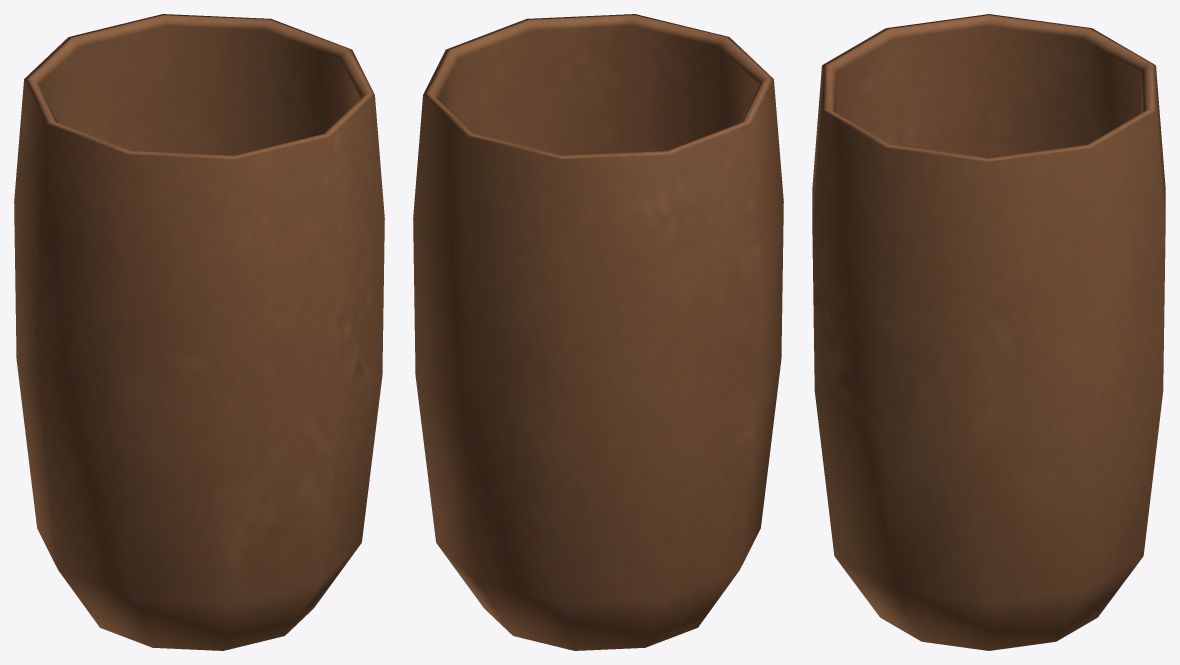
The model's file is Cup.fbx.
3 views of the same model, side by side, from view 1: azimuth 30°, elevation 25°; view 2: azimuth 150°, elevation 25°; view 3: azimuth 270°, elevation 25° (orthographic).
Parts seen in each view (by area): view 1: Cup; view 2: Cup; view 3: Cup.
Boxes of the visible parts, <box> form: Cup: <box>14,14,384,650</box>; Cup: <box>413,14,783,650</box>; Cup: <box>812,14,1165,650</box>.
Bounding box in the file's own units: 3.26 × 5.03 × 3.1.
